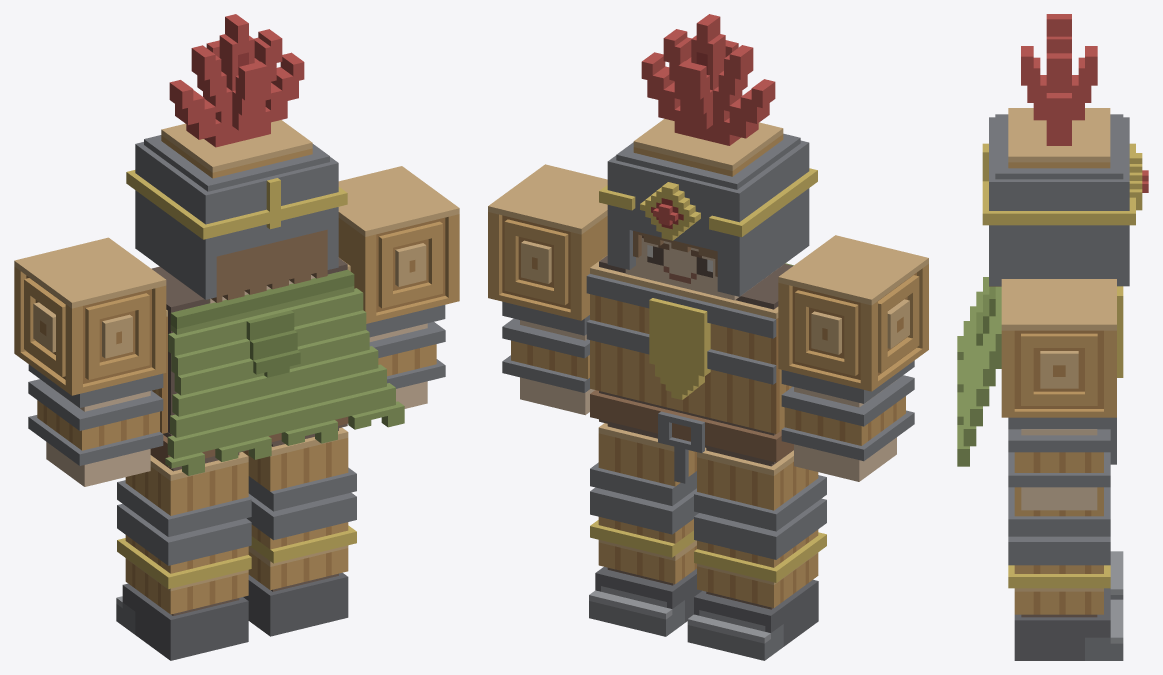
The model's file is warden_male_figure.glb.
3 views of the same model, side by side, from view 1: azimuth 30°, elevation 25°; view 2: azimuth 150°, elevation 25°; view 3: azimuth 270°, elevation 25° (orthographic).
Visible parts, largest first — view 1: WardenMale; view 2: WardenMale; view 3: WardenMale.
Boxes of the visible parts, box(x1,y1,x2,y2) form: WardenMale: box(14, 14, 459, 660); WardenMale: box(488, 14, 928, 660); WardenMale: box(957, 14, 1148, 660).
Size of the model in its own units: 4.66 by 6.92 by 2.
